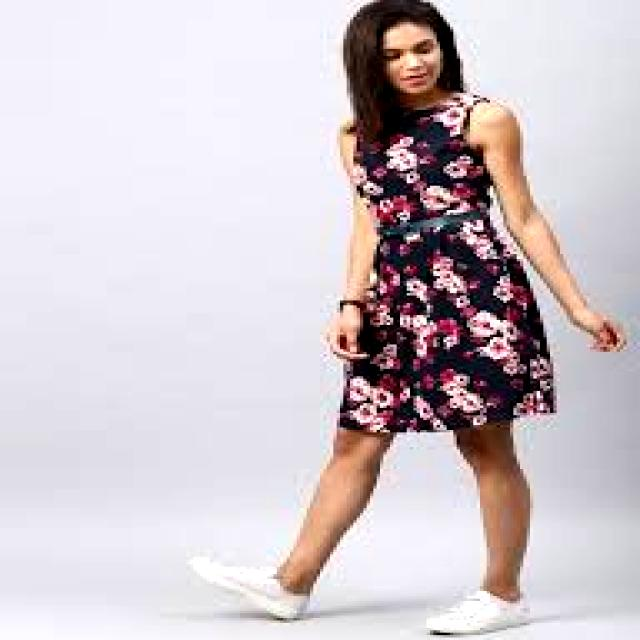dress: (337, 91, 556, 432)
